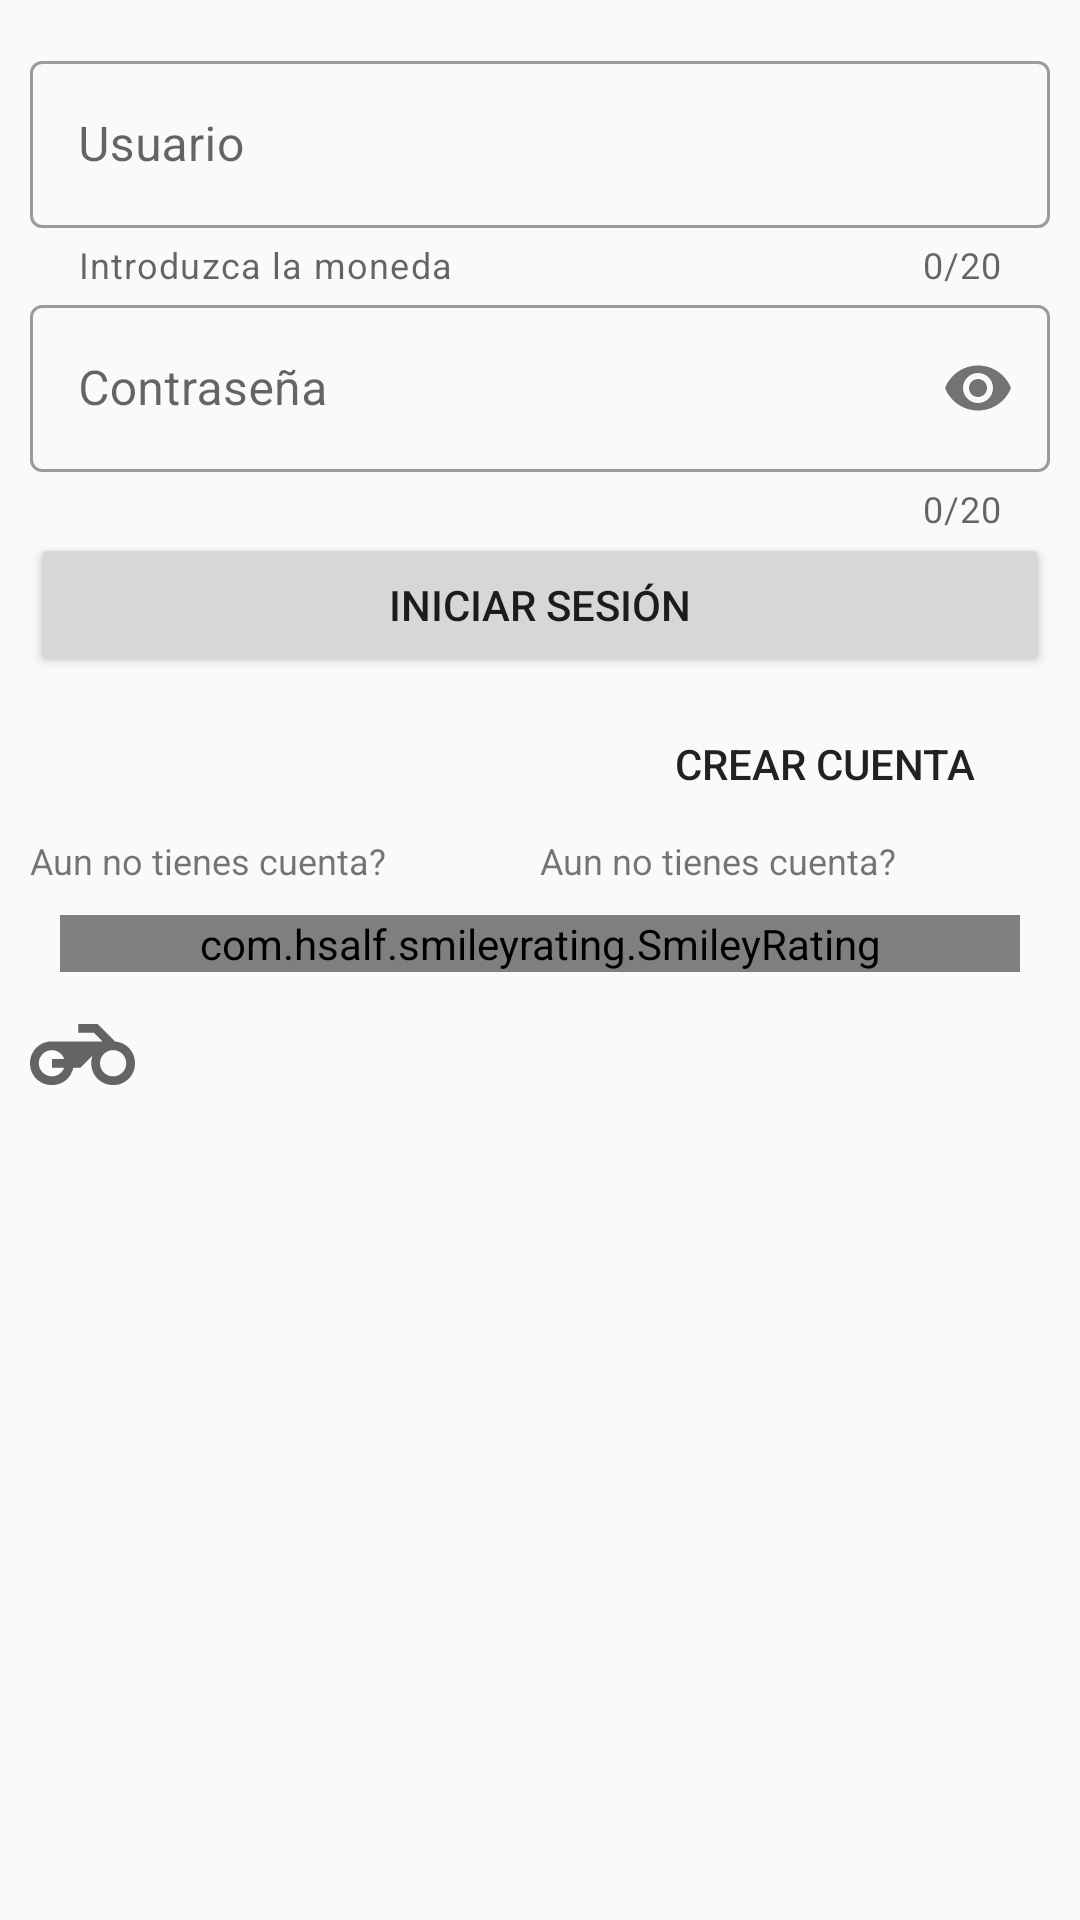

Screen size 1080w x 1920h. Icon name, then its box in pixels as (x1, y1, x2, y2):
motorcycle: (30, 1024, 135, 1085)
